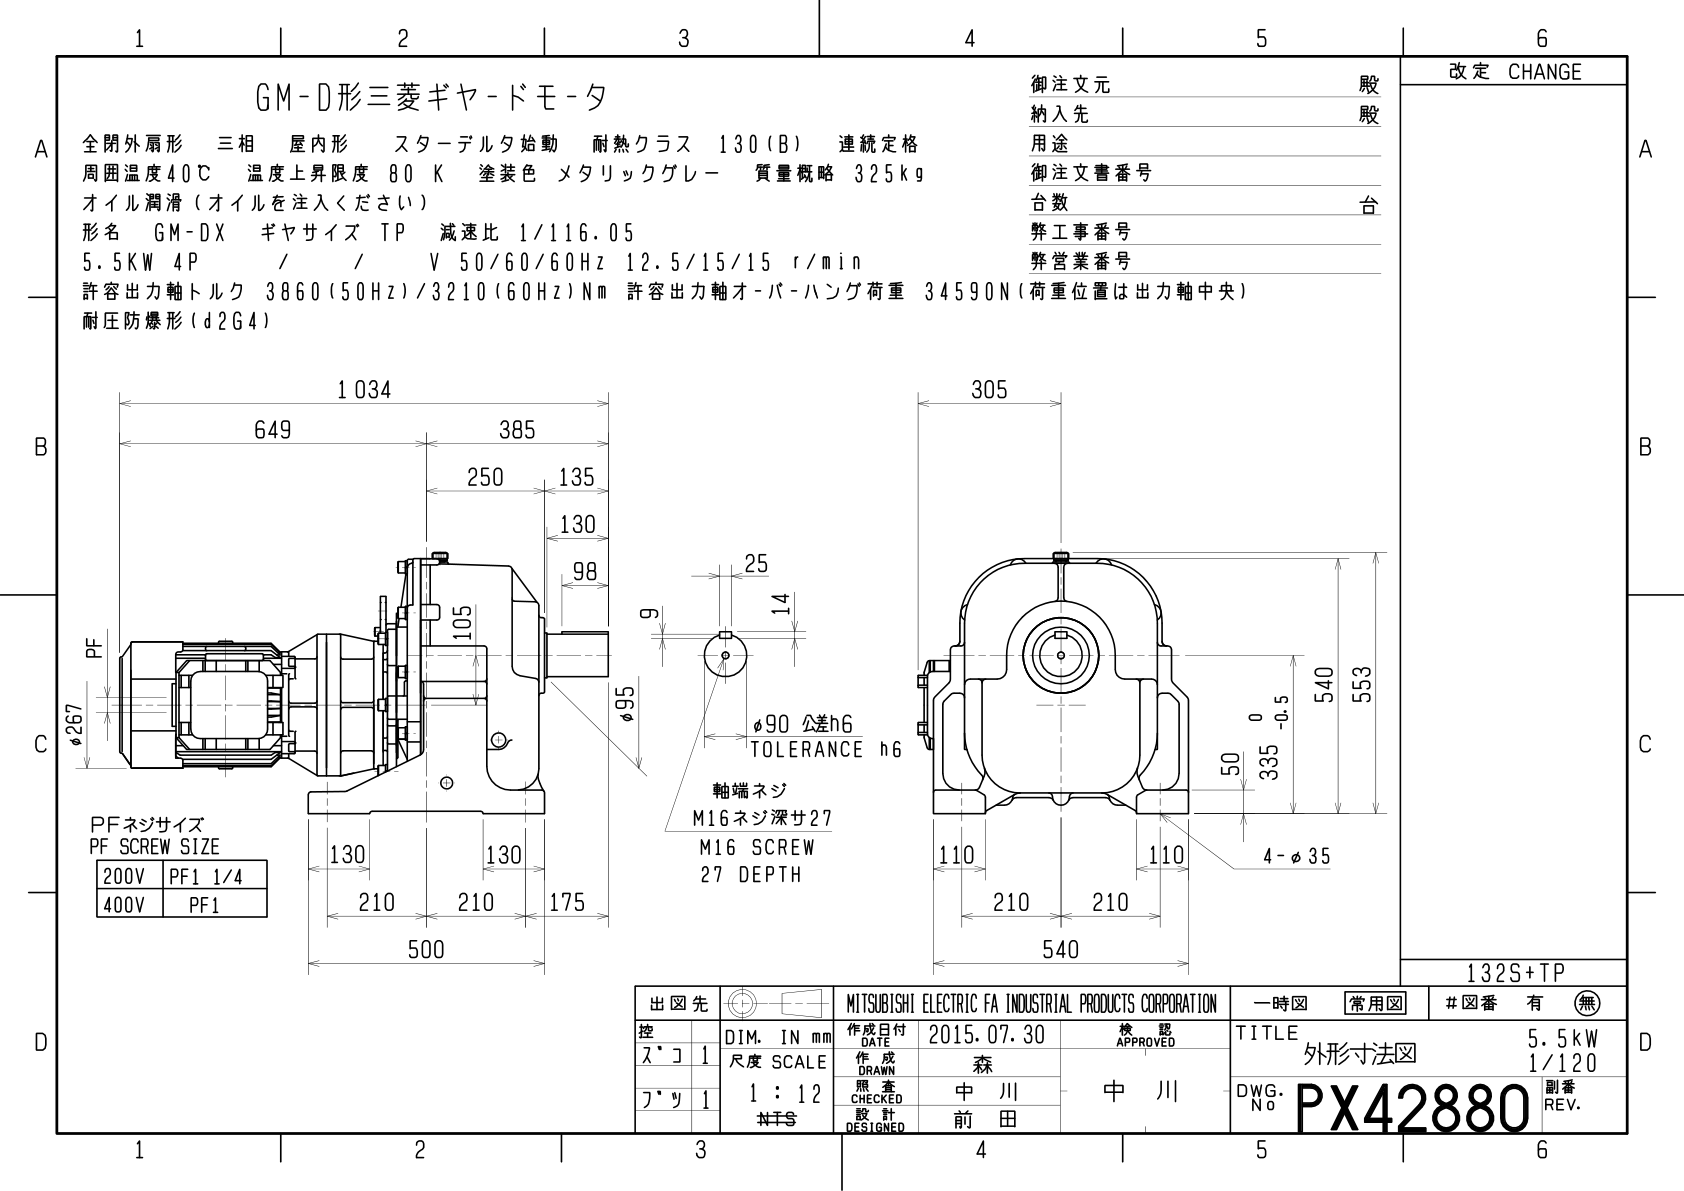GM_D_耐圧屋内_三相_脚: (63, 367, 1399, 980)
